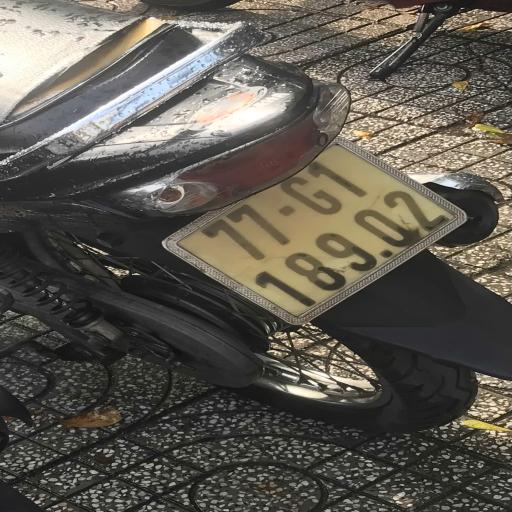0: (337, 207, 421, 250)
1: (235, 262, 315, 318), (301, 153, 385, 205)
2: (369, 185, 465, 234)
7: (189, 216, 271, 270), (229, 198, 304, 254)
8: (274, 250, 356, 294)
9: (304, 226, 385, 274)
G: (276, 166, 350, 222)
